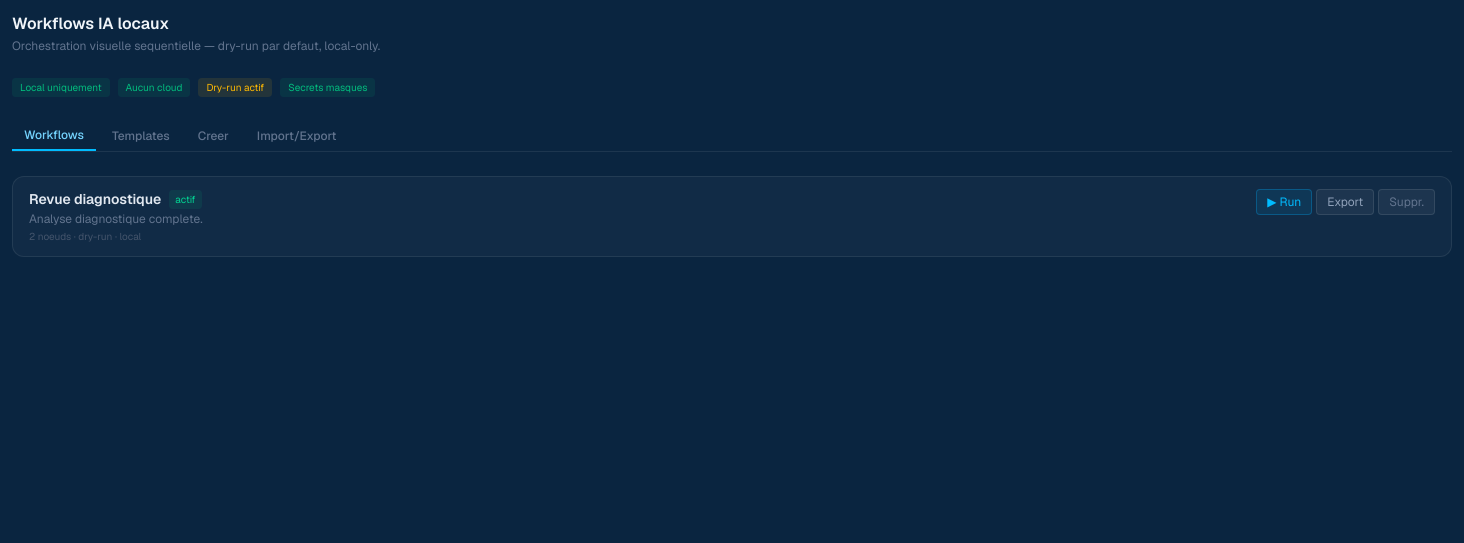
Scenario: WorkflowsPanel › l'onglet Creer affiche l'editeur JSON
The width and height of the screenshot is (1464, 543).
What coordinates should you click on to do the following:
click the button "Creer"
I would click on:
 (213, 136)
Its box is left=186, top=121, right=241, bottom=151.
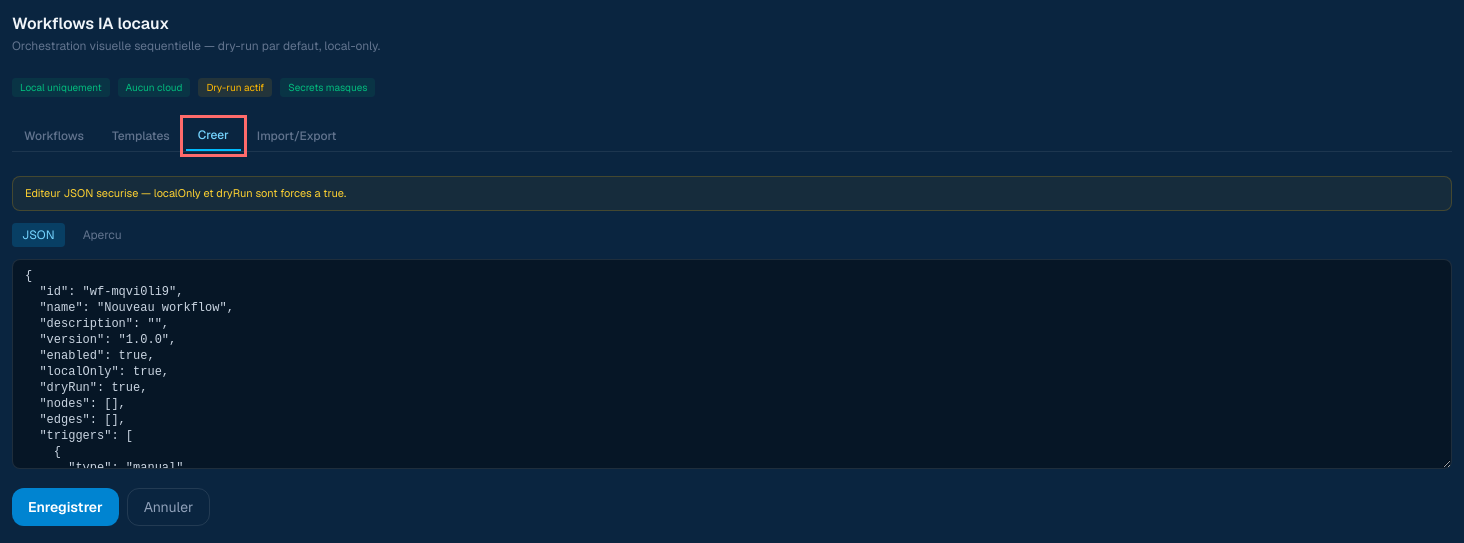
Expected: the text box named "JSON" is shown, left=12, top=258, right=1452, bottom=468
